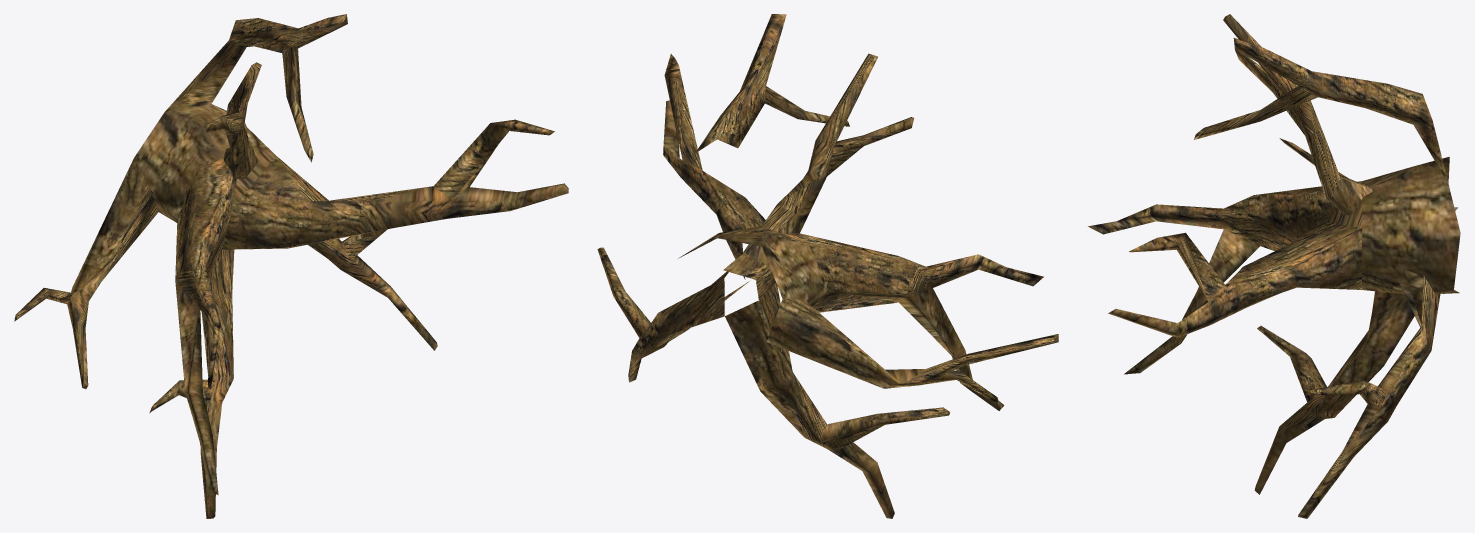
3 renders of one model, left to right at view 1: azimuth 30°, elevation 25°; view 2: azimuth 150°, elevation 25°; view 3: azimuth 270°, elevation 25°, orthographic. The views are drawn at different scales.
Parts seen in each view (by area): view 1: model_Object29; view 2: model_Object29; view 3: model_Object29.
Boxes of the visible parts, x1,y1,x2,y2 form: model_Object29: (14,14,568,518); model_Object29: (597,14,1058,518); model_Object29: (1088,14,1460,518).
Bounding box in the file's own units: 4.31 × 4.15 × 2.71.
Materials: 1 (1 with a texture image).
